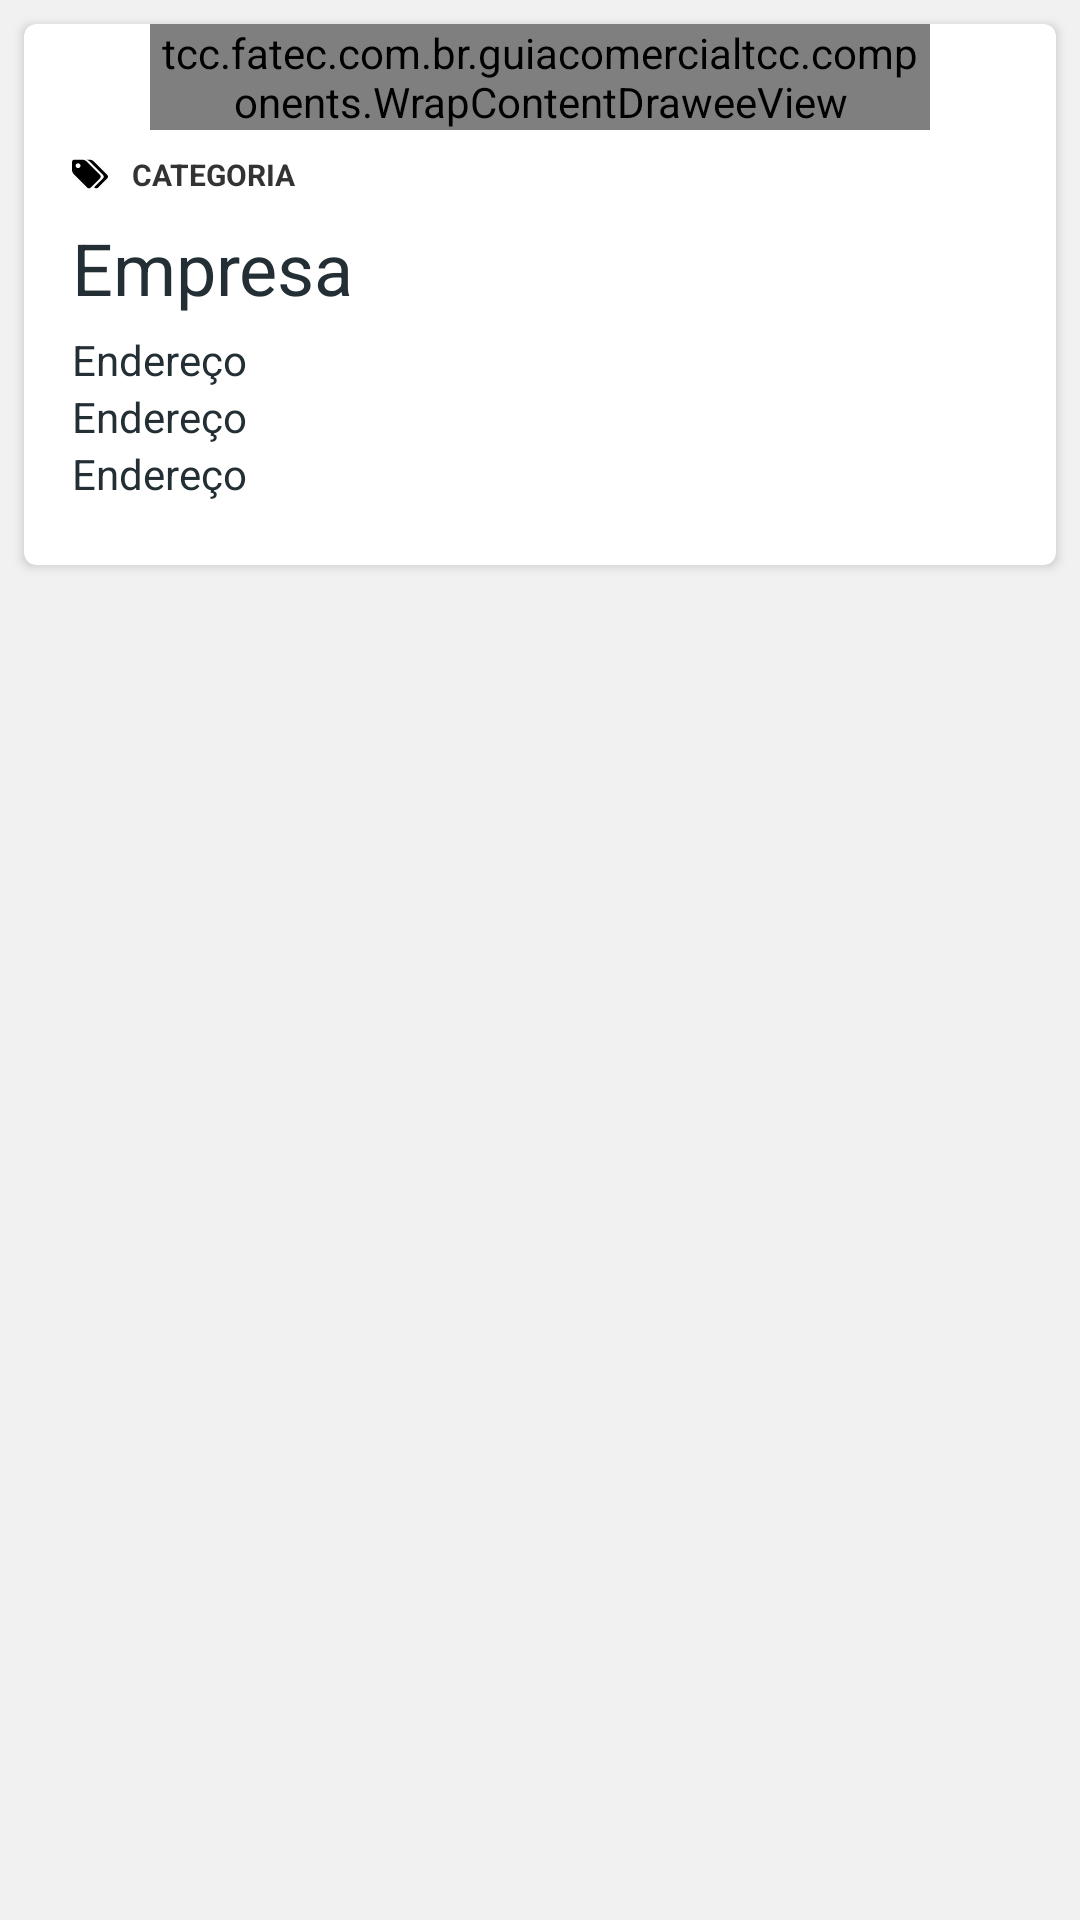

Point at icon controls on the screen. Image size 1080×1920, points as (x=x, y=y).
tags: (x=90, y=174)
